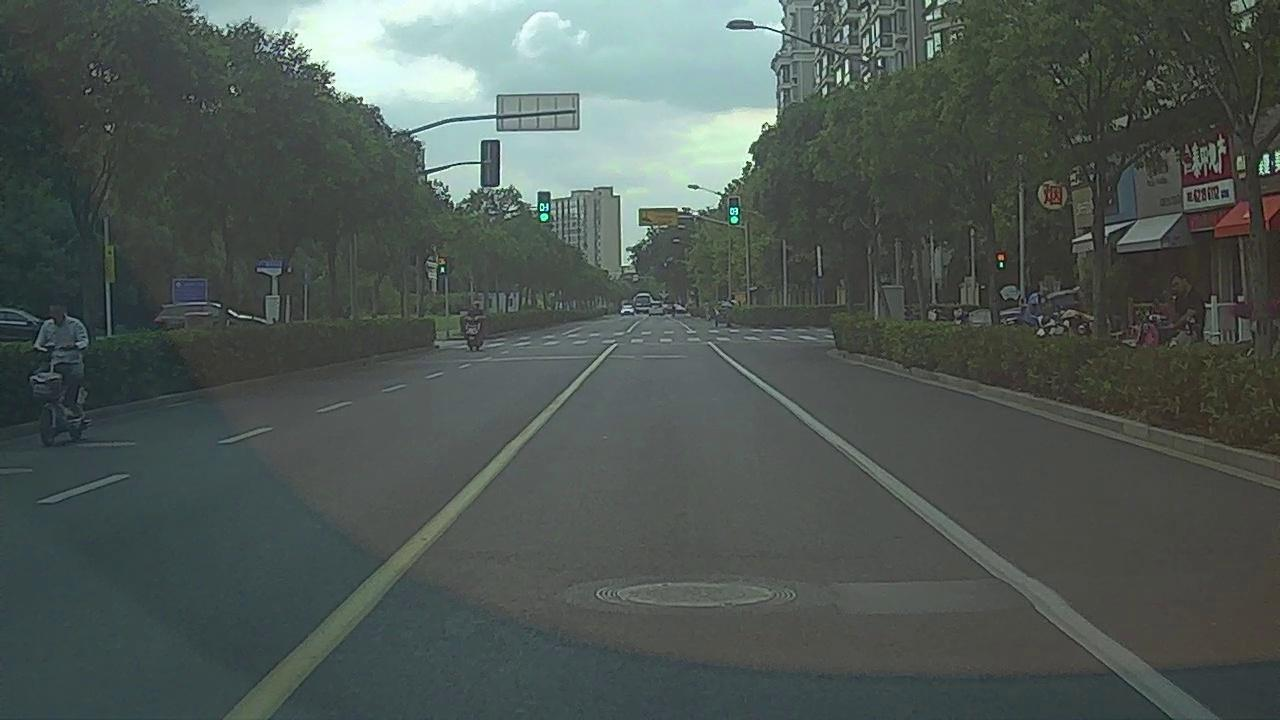traffic_light: (536, 192, 550, 222), (728, 197, 740, 225)
